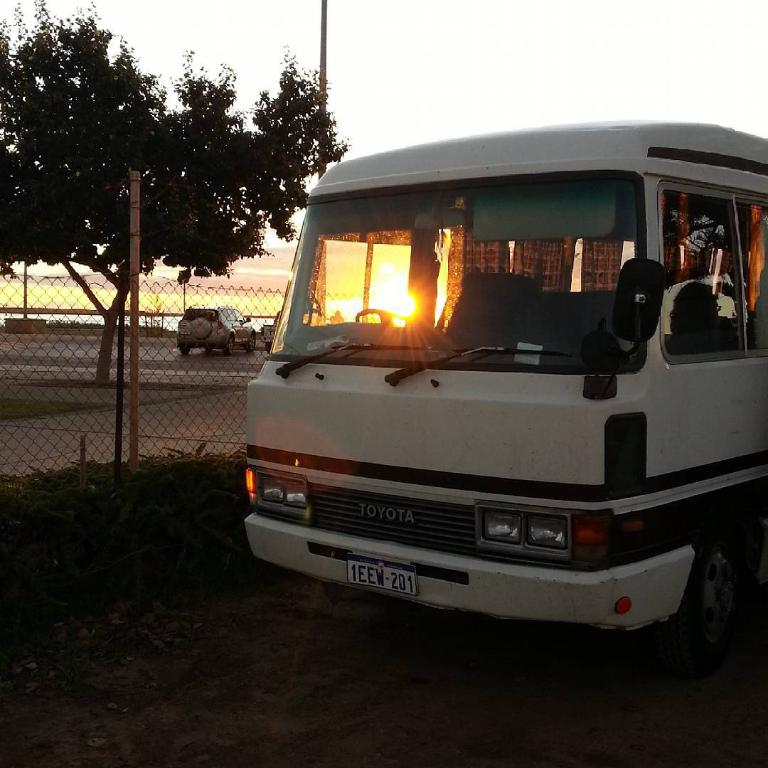Bus: (238, 120, 767, 669)
